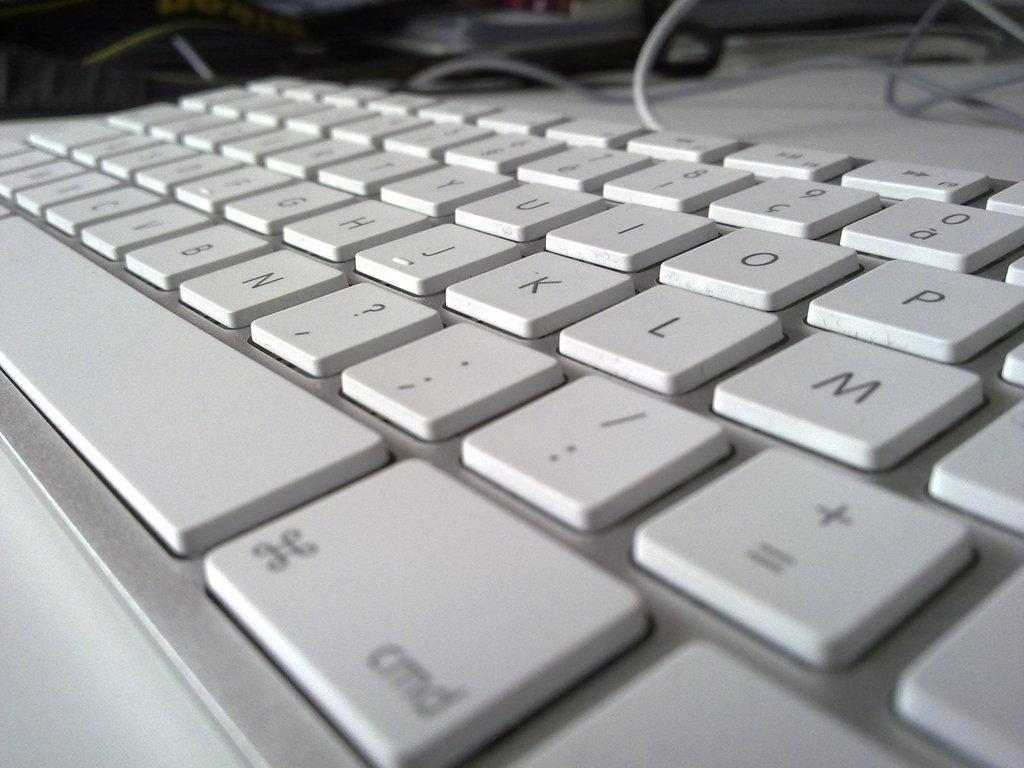Computer-keyboard: (0, 73, 1023, 767)
Laptop: (28, 0, 957, 764)
